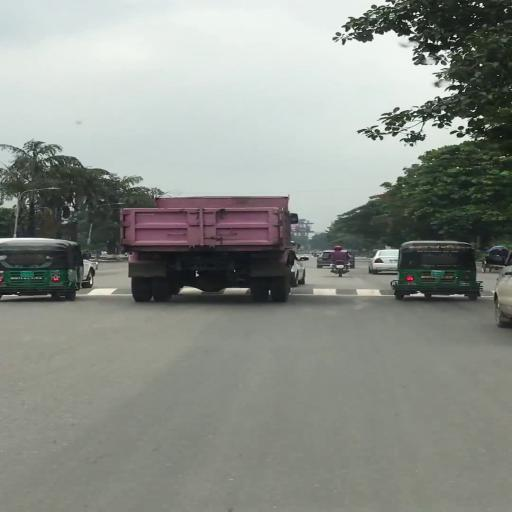car: (369, 249, 399, 276)
motorbike: (329, 246, 351, 279)
rickshaw: (480, 246, 509, 274)
three wheelers (CNG): (394, 240, 487, 304), (1, 239, 87, 303)
truck: (118, 196, 300, 307)
